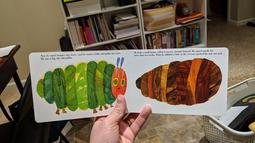text block: (131, 48, 226, 58), (37, 50, 122, 60)
